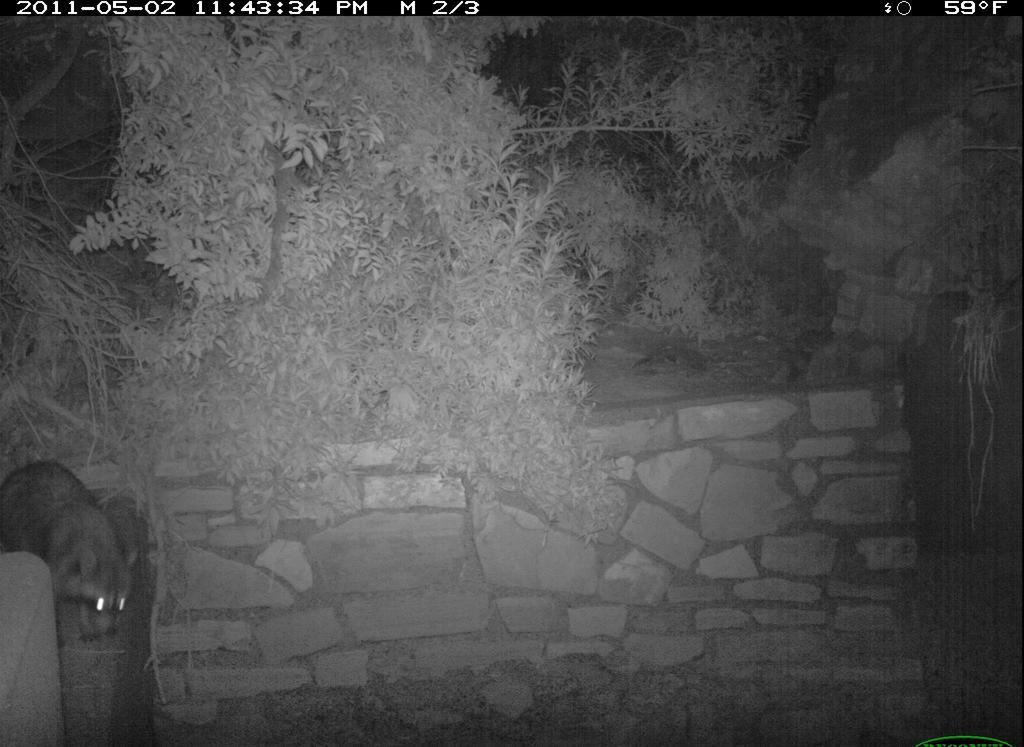raccoon: (1, 456, 150, 648)
